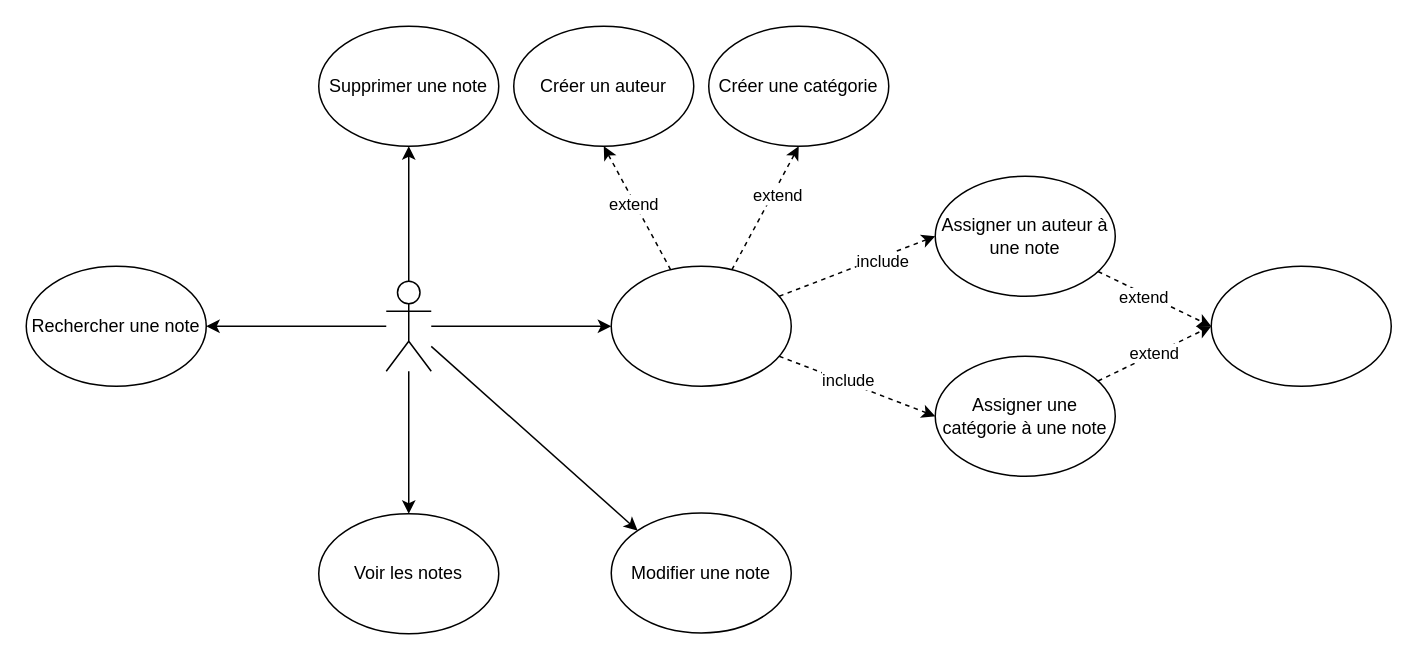
The diagram is 1418 pixels wide and 660 high, and some of its shapes have lost their labels. The centre of each missing label's shape, as x and y in pixels:
Créer une note: the point at 700,325
Filtrer les notes par auteur/catégorie: the point at 1300,325
User: the point at 408,325
